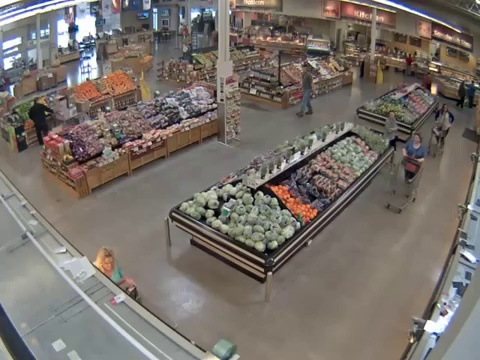face: (99, 256, 115, 272), (414, 134, 421, 143), (442, 104, 448, 111), (388, 112, 395, 118)
